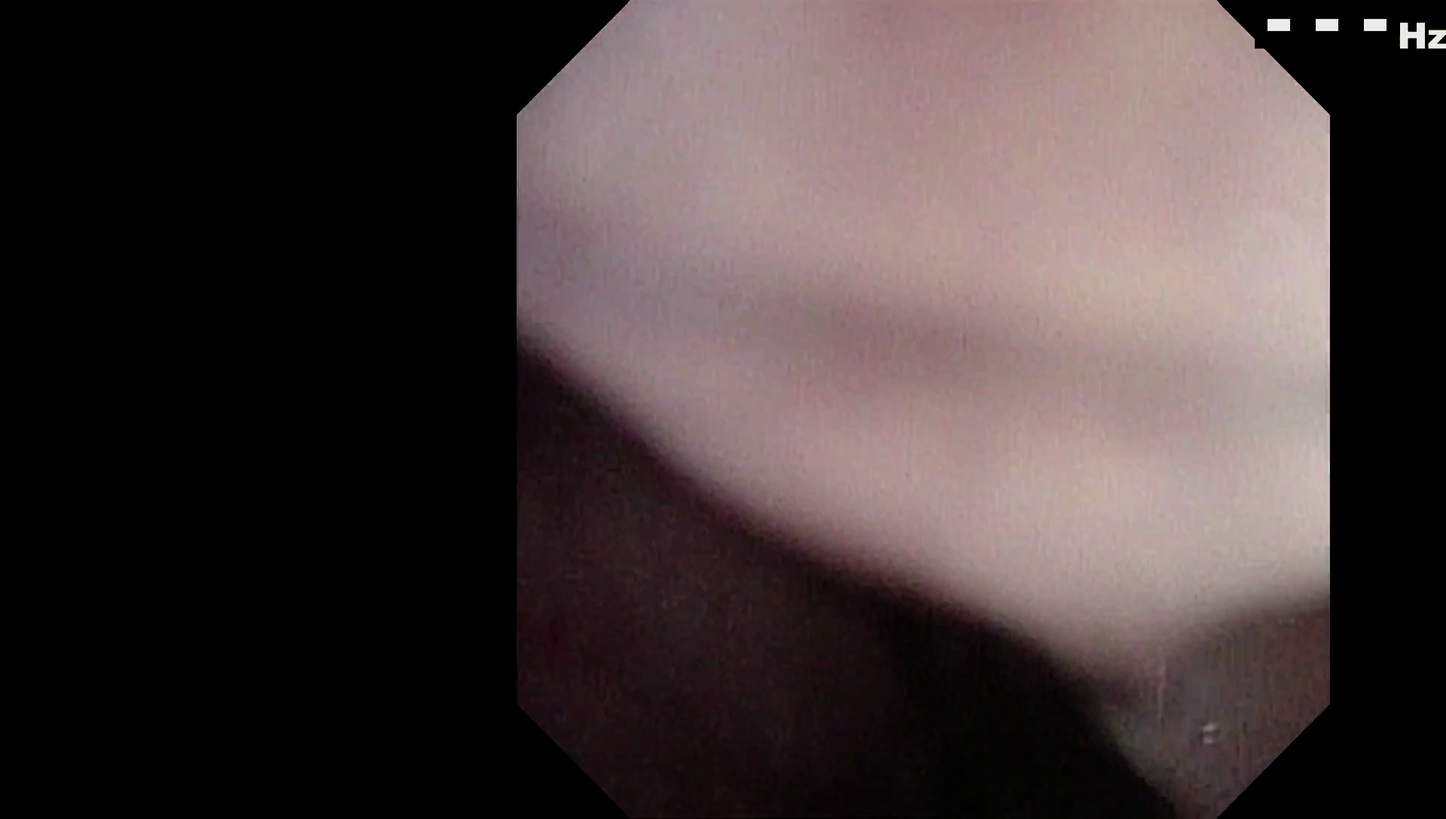close_wall: (536, 87, 1282, 620)
next: (713, 513, 1197, 819)
